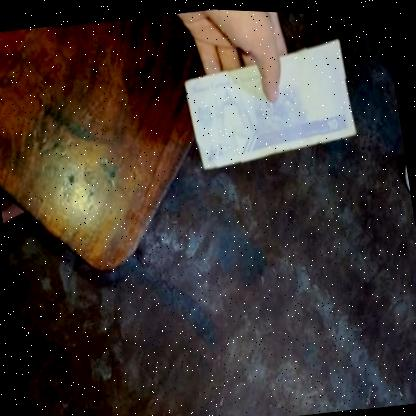ten-back-vef: (178, 32, 362, 173)
